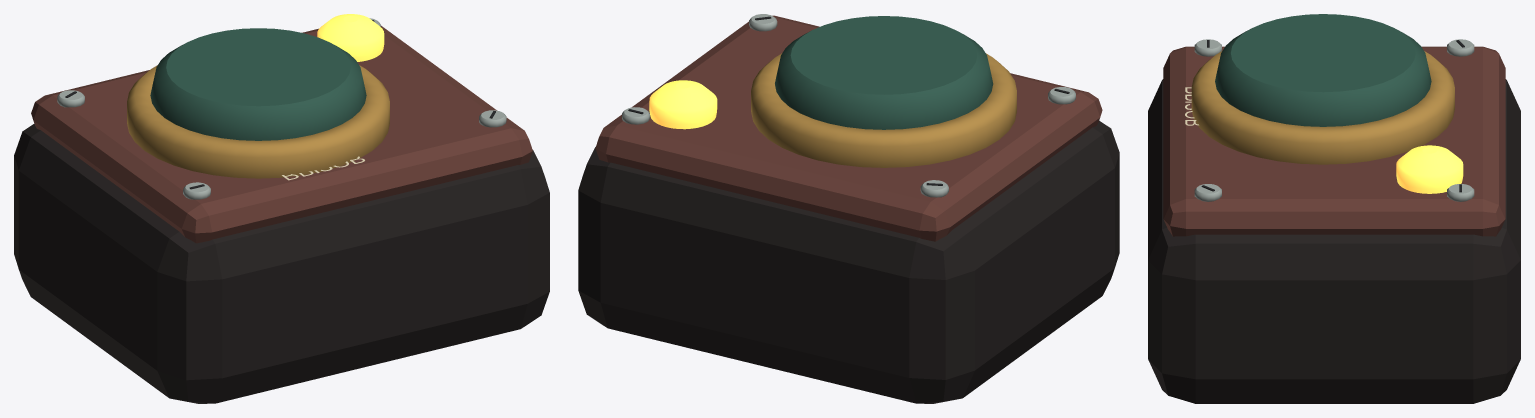
Rendered from DeskCallButton.fbx.
3 renders of one model, left to right at view 1: azimuth 30°, elevation 25°; view 2: azimuth 150°, elevation 25°; view 3: azimuth 270°, elevation 25°, orthographic.
Visible parts, largest first — view 1: Bakélite housing, Raised face, Green cap, Button trim, Signal lamp; view 2: Bakélite housing, Raised face, Green cap, Button trim, Signal lamp; view 3: Bakélite housing, Raised face, Green cap, Button trim, Signal lamp, Case screw 4, Case screw 2, Case screw 1, Case screw 3.
Boxes of the visible parts, x1,y1,x2,y2 form: Bakélite housing: [14, 124, 549, 403]; Raised face: [31, 25, 532, 243]; Green cap: [150, 28, 366, 140]; Button trim: [127, 65, 389, 178]; Signal lamp: [317, 14, 384, 61]; Bakélite housing: [578, 120, 1119, 403]; Raised face: [595, 15, 1102, 241]; Green cap: [775, 16, 993, 129]; Button trim: [751, 53, 1016, 167]; Signal lamp: [649, 80, 717, 129]; Bakélite housing: [1148, 79, 1520, 403]; Raised face: [1163, 46, 1505, 236]; Green cap: [1215, 14, 1431, 126]; Button trim: [1191, 51, 1454, 164]; Signal lamp: [1396, 145, 1463, 193]; Case screw 4: [1447, 184, 1474, 201]; Case screw 2: [1447, 39, 1474, 56]; Case screw 1: [1194, 39, 1221, 56]; Case screw 3: [1194, 184, 1221, 201].
Bounding box in the file's own units: 0.16 × 0.1025 × 0.133.
